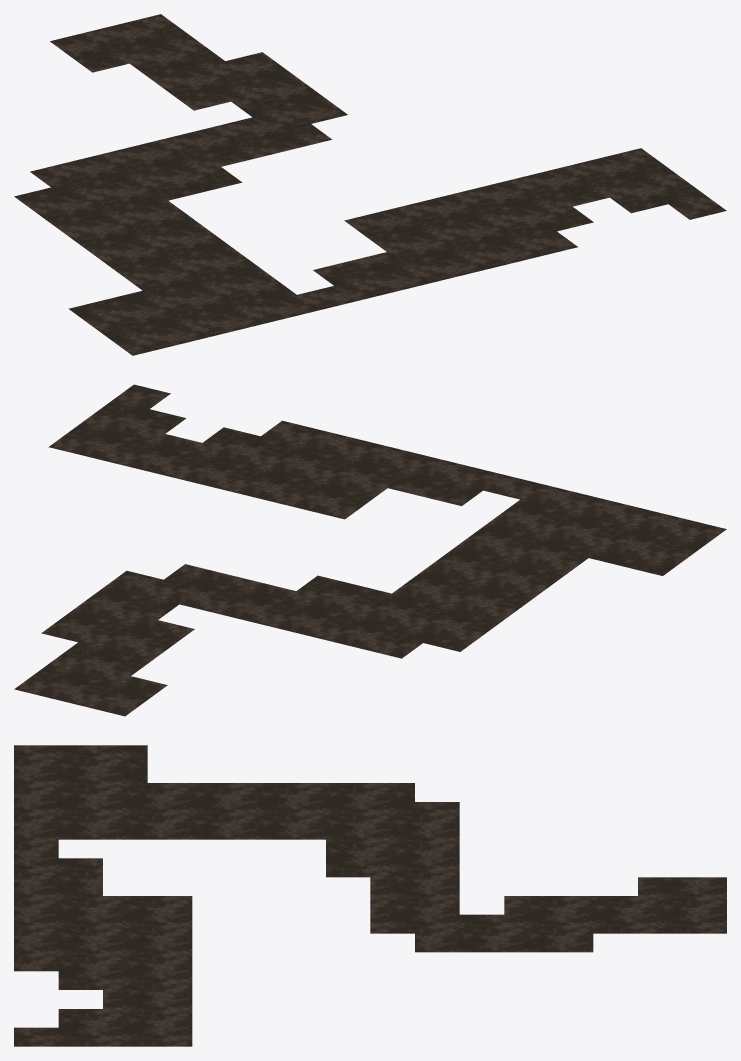
Rendered from floor_-1_-12.glb.
3 renders of one model, top to bottom at view 1: azimuth 30°, elevation 25°; view 2: azimuth 150°, elevation 25°; view 3: azimuth 270°, elevation 25°, orthographic. The views are drawn at different scales.
Visible parts, largest first — view 1: floor_-1_-12; view 2: floor_-1_-12; view 3: floor_-1_-12.
Part boxes in pixels (x1=…): floor_-1_-12: x1=14, y1=14, x2=726, y2=355; floor_-1_-12: x1=14, y1=384, x2=726, y2=716; floor_-1_-12: x1=14, y1=745, x2=726, y2=1046.
Bounding box in the file's own units: 64 × 0 × 64.
Materials: 1 (1 with a texture image).
